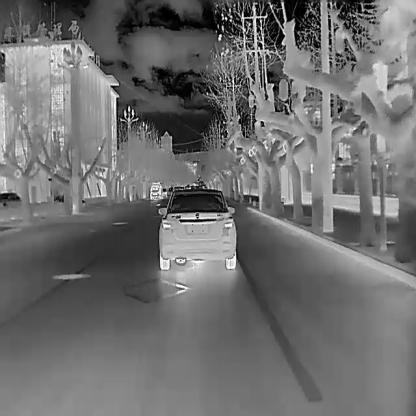car: (157, 188, 236, 268), (0, 191, 21, 207)
truck: (149, 181, 162, 199)
